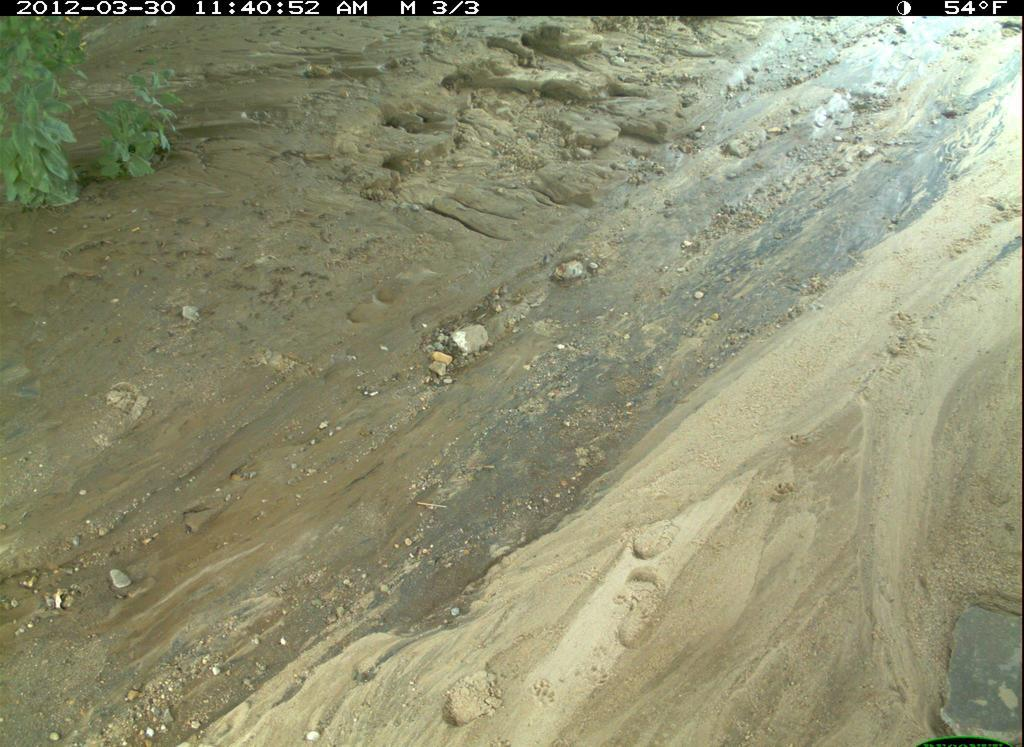bobcat: (2, 19, 1024, 747)
